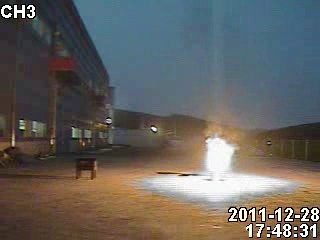fire: (195, 128, 238, 174)
